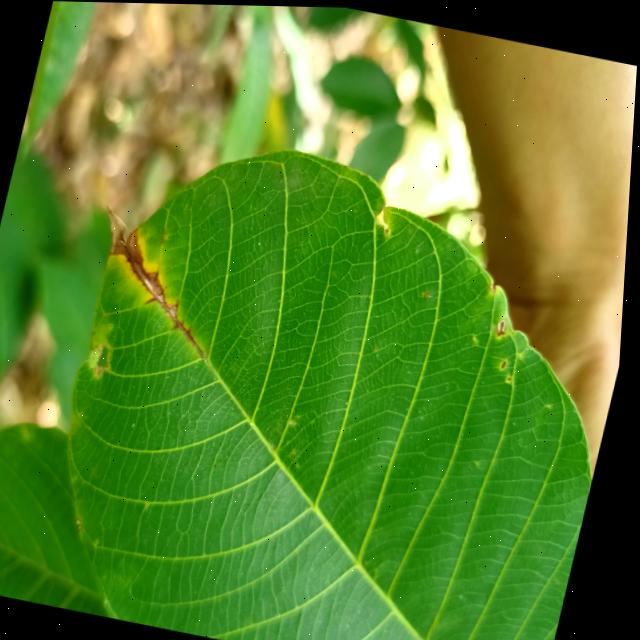Corynespora: (91, 224, 237, 363)
Leaf-Blight: (95, 202, 154, 262)
